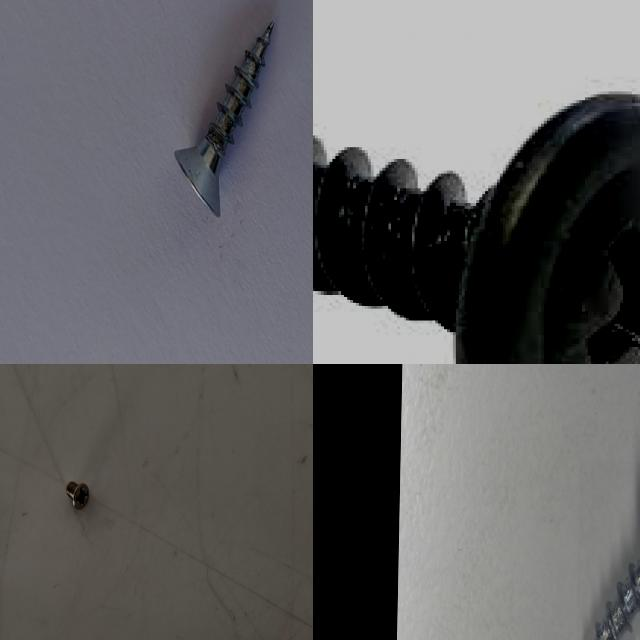Screw: (313, 94, 640, 364), (175, 21, 274, 216), (595, 558, 640, 640), (62, 478, 92, 513)
